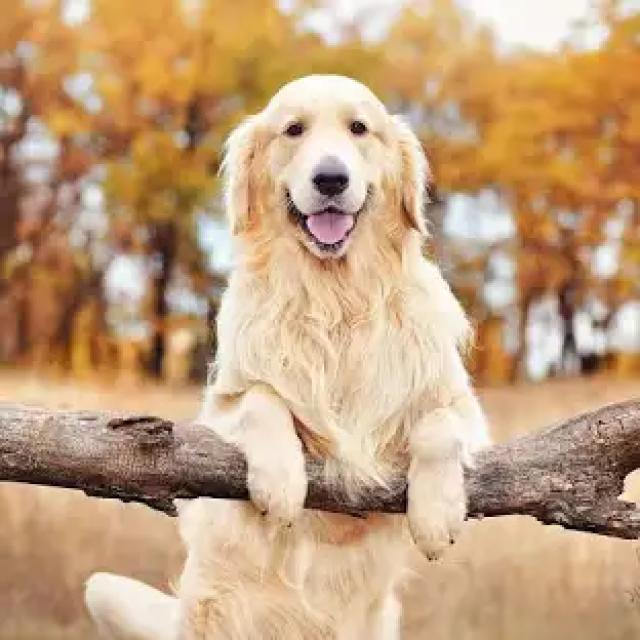dog: (172, 74, 492, 640)
